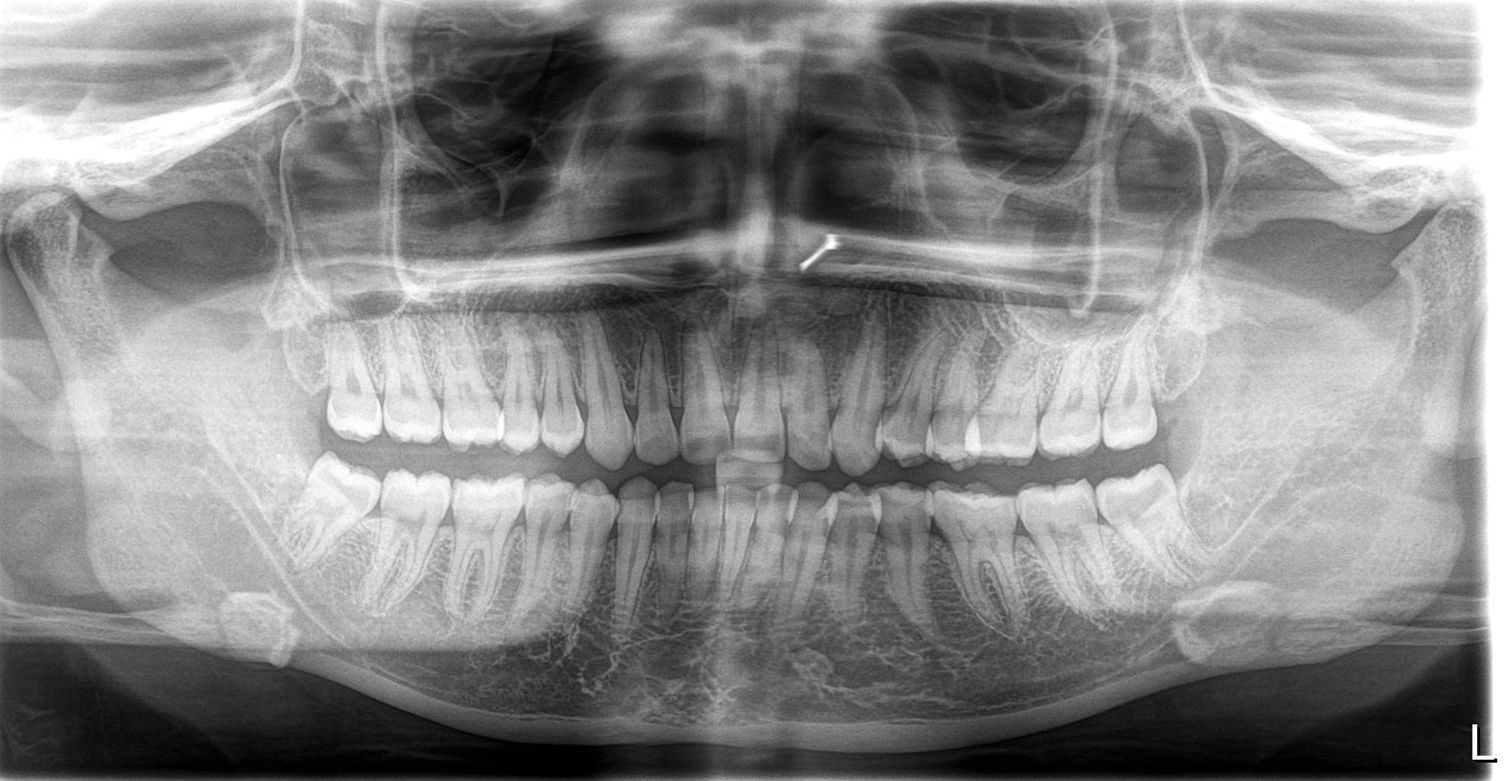Impacted Third Molar: (1097, 465, 1189, 595), (291, 453, 382, 575)
